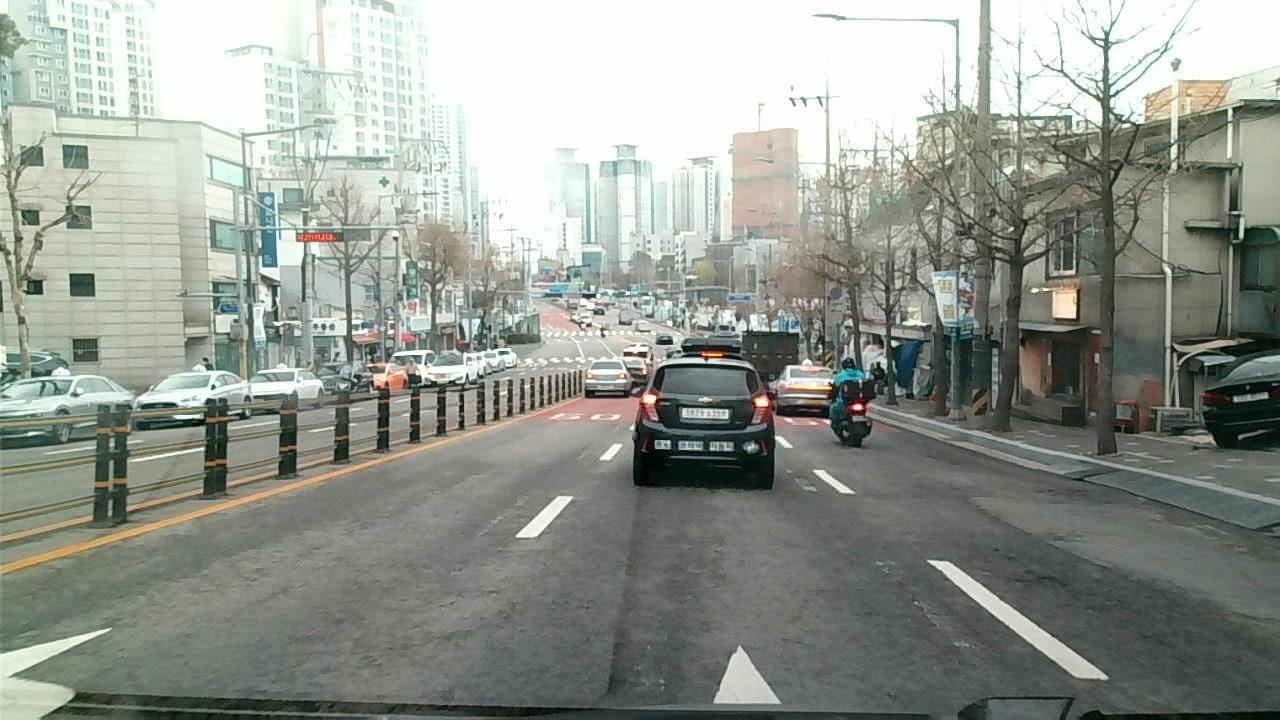vcrack: (880, 564, 962, 647), (988, 540, 1079, 601)
